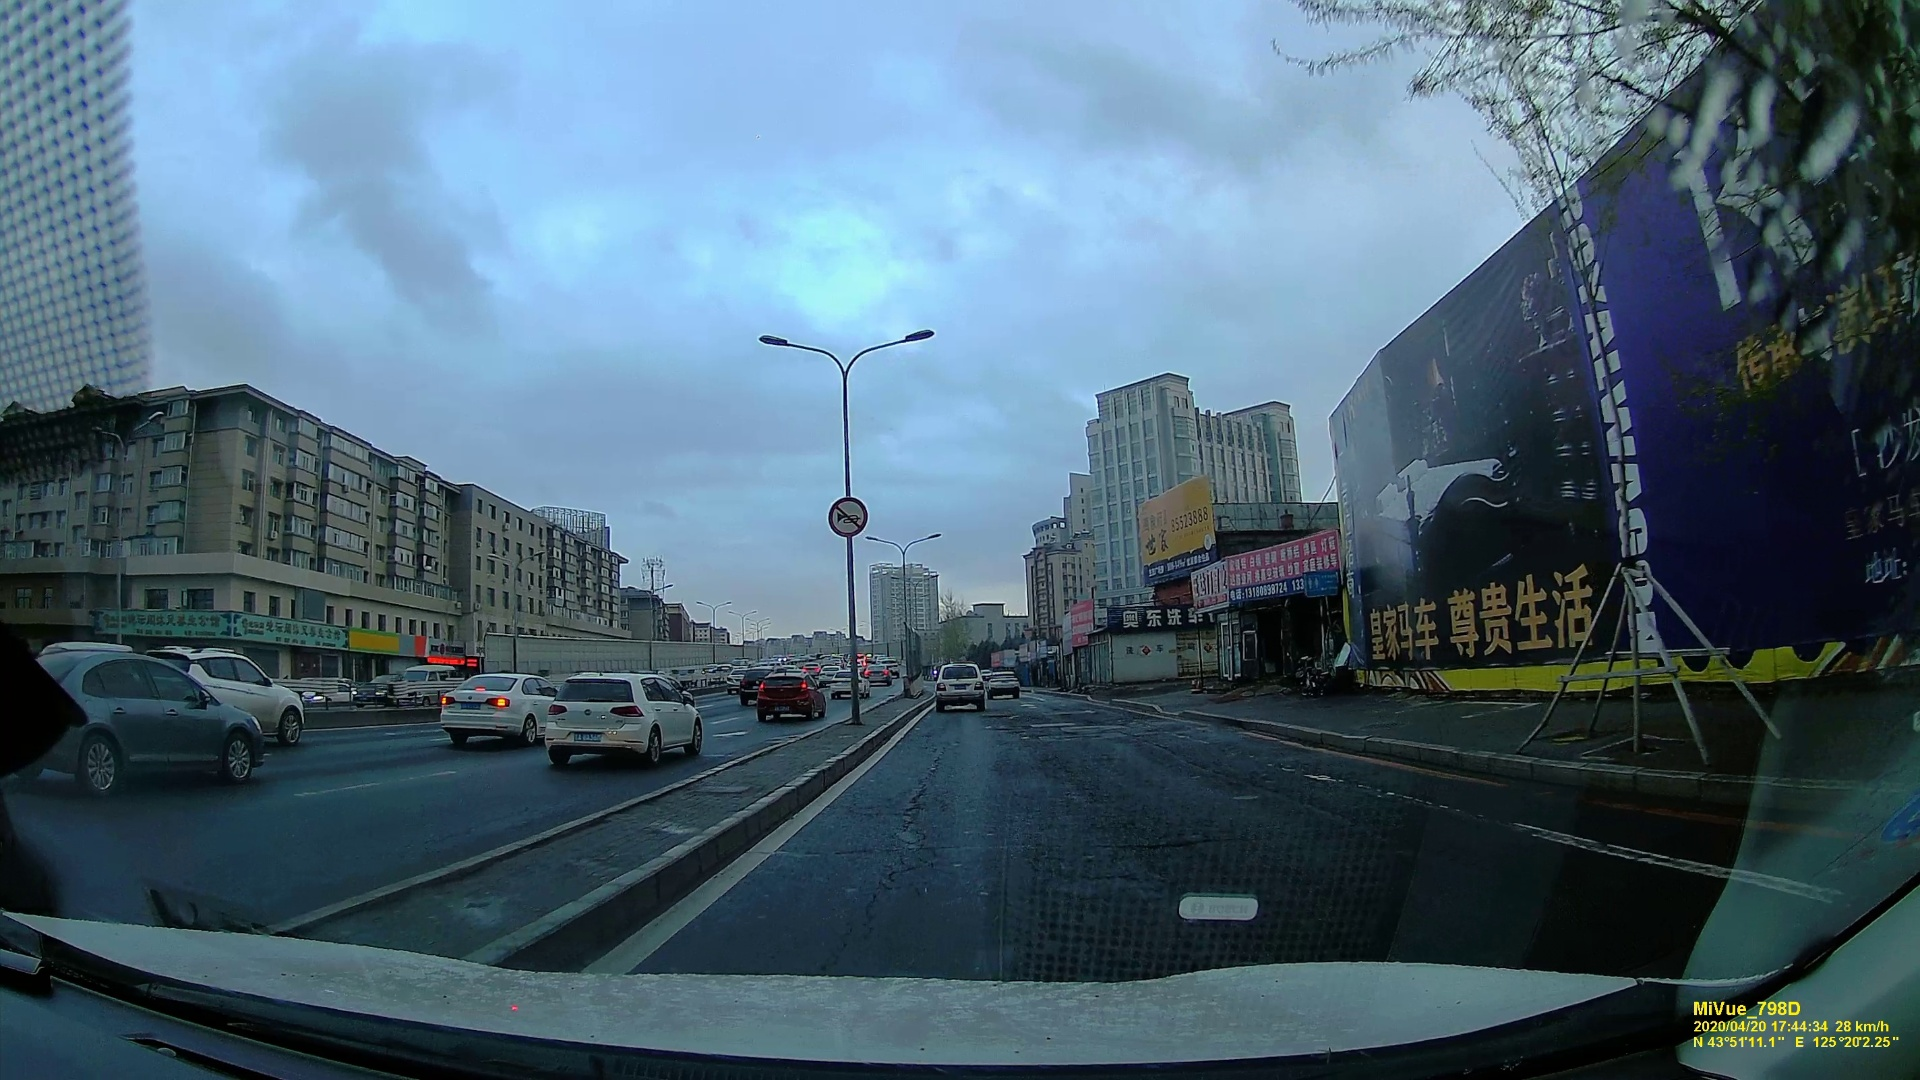traffic_sign: (827, 496, 866, 535)
vehicle: (15, 636, 272, 793), (160, 644, 303, 748), (546, 669, 698, 765), (440, 670, 554, 746), (748, 671, 824, 721), (932, 662, 986, 712), (858, 658, 895, 683)
